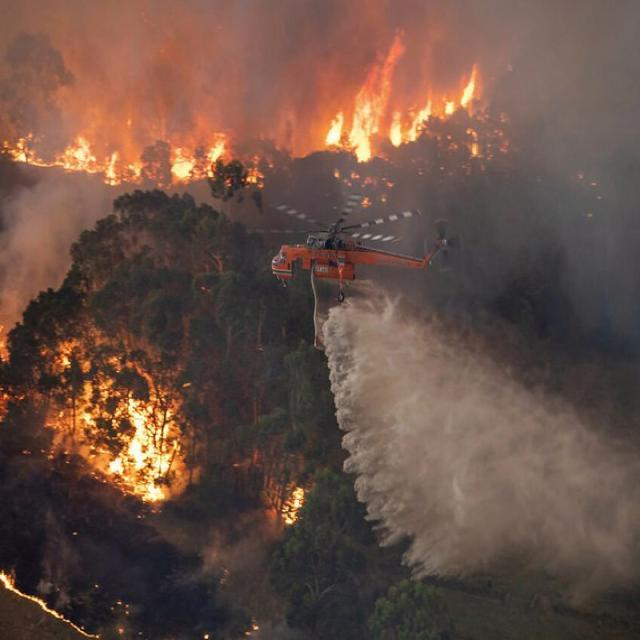Fire: (39, 320, 187, 502), (124, 124, 234, 192), (348, 34, 406, 162), (0, 130, 123, 188), (388, 90, 432, 150), (439, 64, 482, 120), (334, 171, 394, 210), (316, 100, 346, 154), (280, 485, 306, 528), (1, 381, 24, 429), (0, 564, 21, 598), (241, 156, 264, 186), (467, 121, 483, 158), (266, 477, 280, 516), (0, 324, 12, 364), (20, 592, 44, 611), (45, 603, 64, 622), (64, 616, 82, 636), (246, 618, 260, 638), (500, 137, 510, 156), (82, 633, 103, 640)
Smoke: (2, 0, 320, 129), (539, 0, 640, 339), (0, 171, 126, 320), (402, 1, 540, 63), (492, 65, 540, 130), (320, 0, 402, 33)
